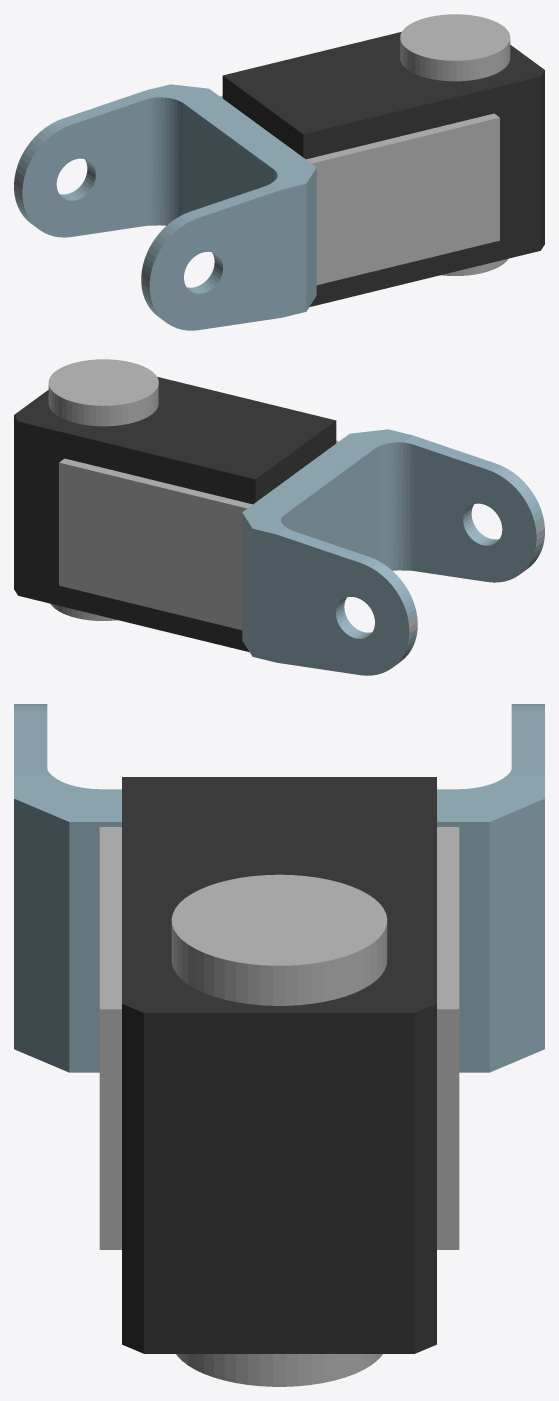
Rendered from hand.dae.
3 views of the same model, one above another, from view 1: azimuth 30°, elevation 25°; view 2: azimuth 150°, elevation 25°; view 3: azimuth 270°, elevation 25° (orthographic). The views are drawn at different scales.
Parts seen in each view (by area): view 1: hand_for_sim; view 2: hand_for_sim; view 3: hand_for_sim.
Boxes of the visible parts, bbox=[...] form: hand_for_sim: bbox=[14, 14, 544, 330]; hand_for_sim: bbox=[14, 359, 544, 675]; hand_for_sim: bbox=[14, 704, 544, 1386].
Bounding box in the file's own units: 0.0875 × 0.048 × 0.042.
